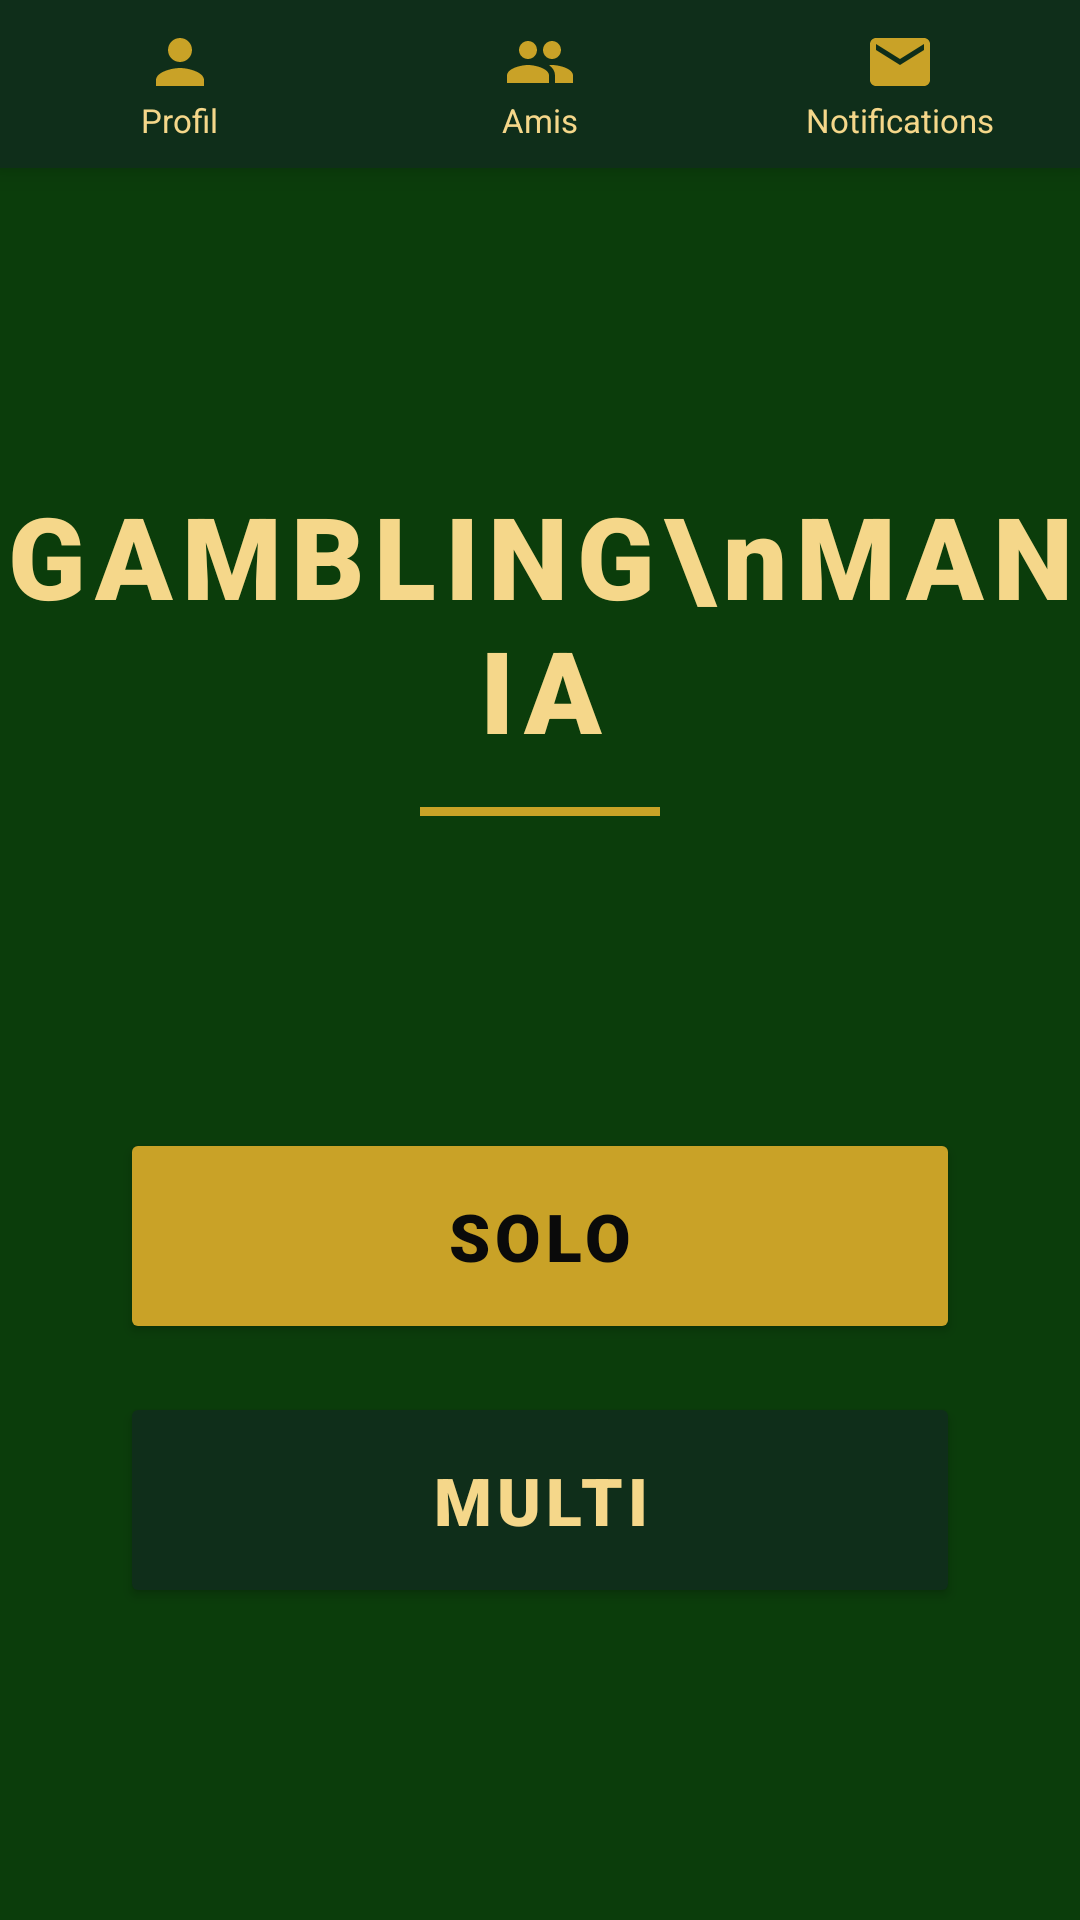

Screen size 1080 x 1920. Icon name, then its center in pixels as point (x, y):
mail: point (900, 62)
